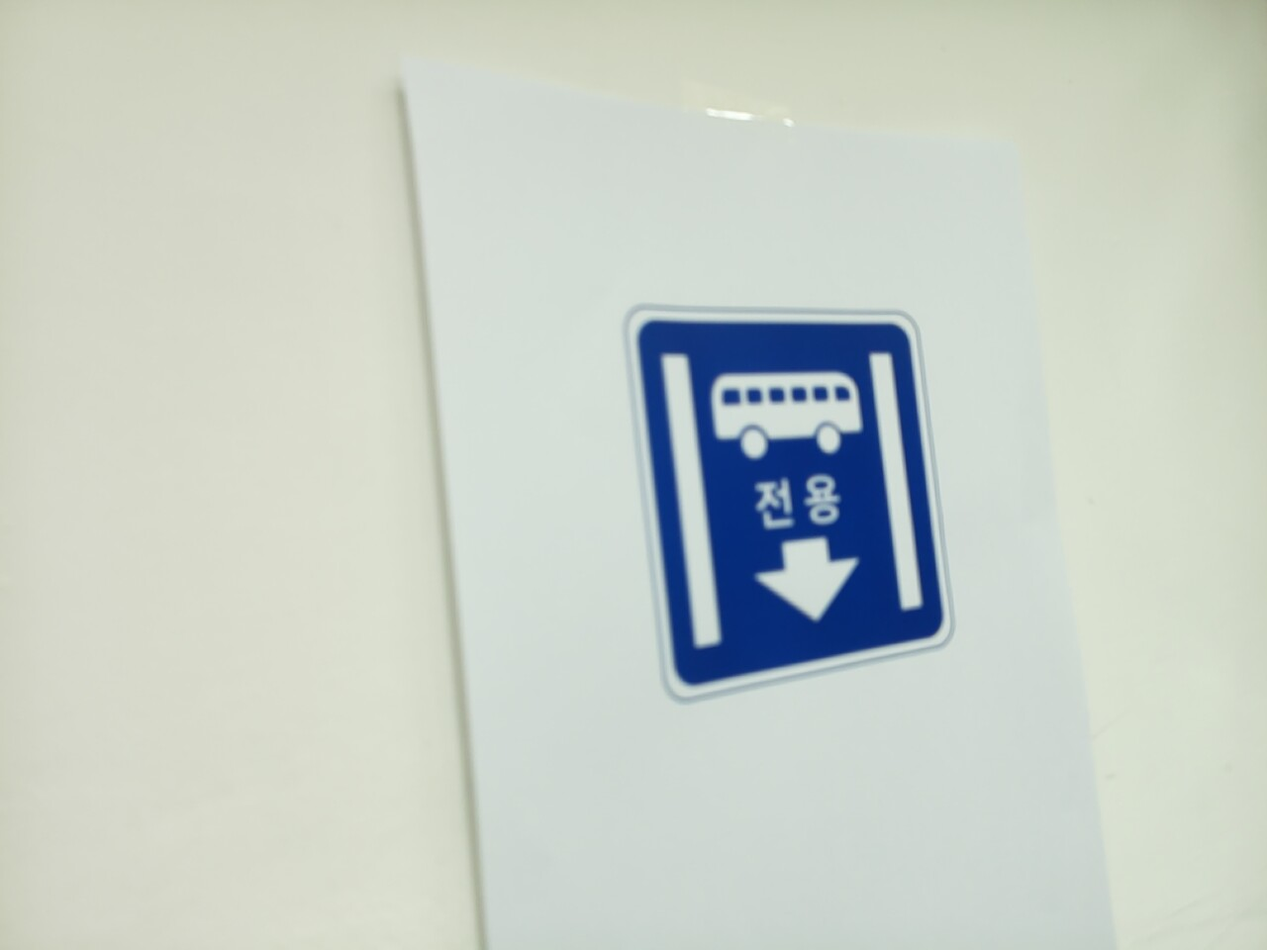bus_only_lane: (629, 310, 953, 697)
